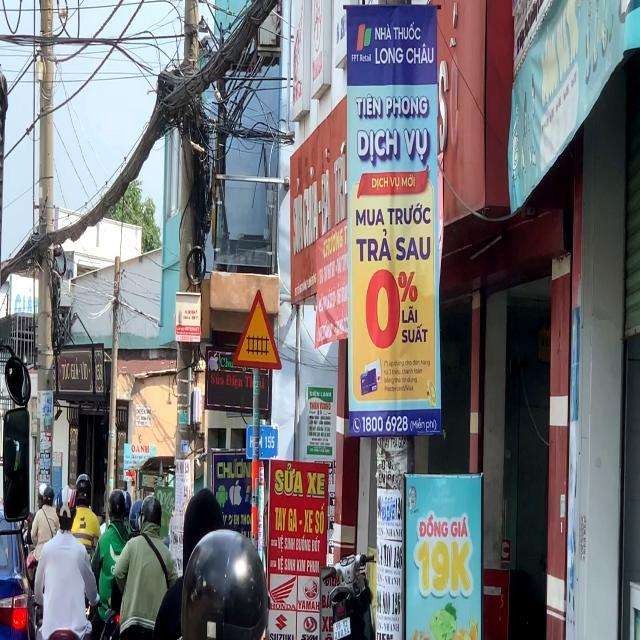W-210: (232, 286, 282, 372)
